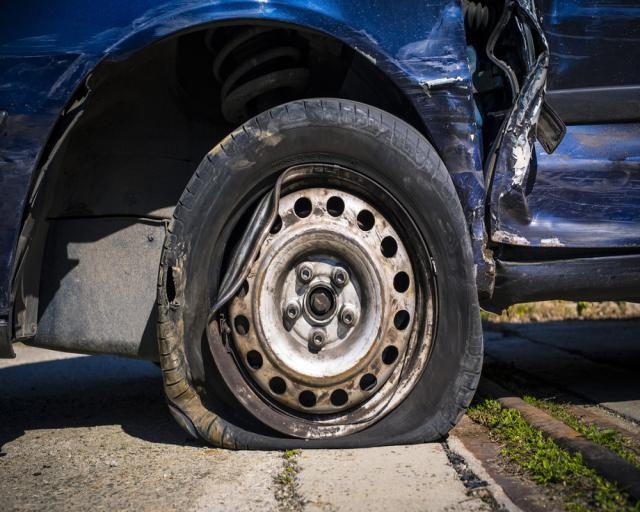tire flat: (156, 96, 484, 449)
